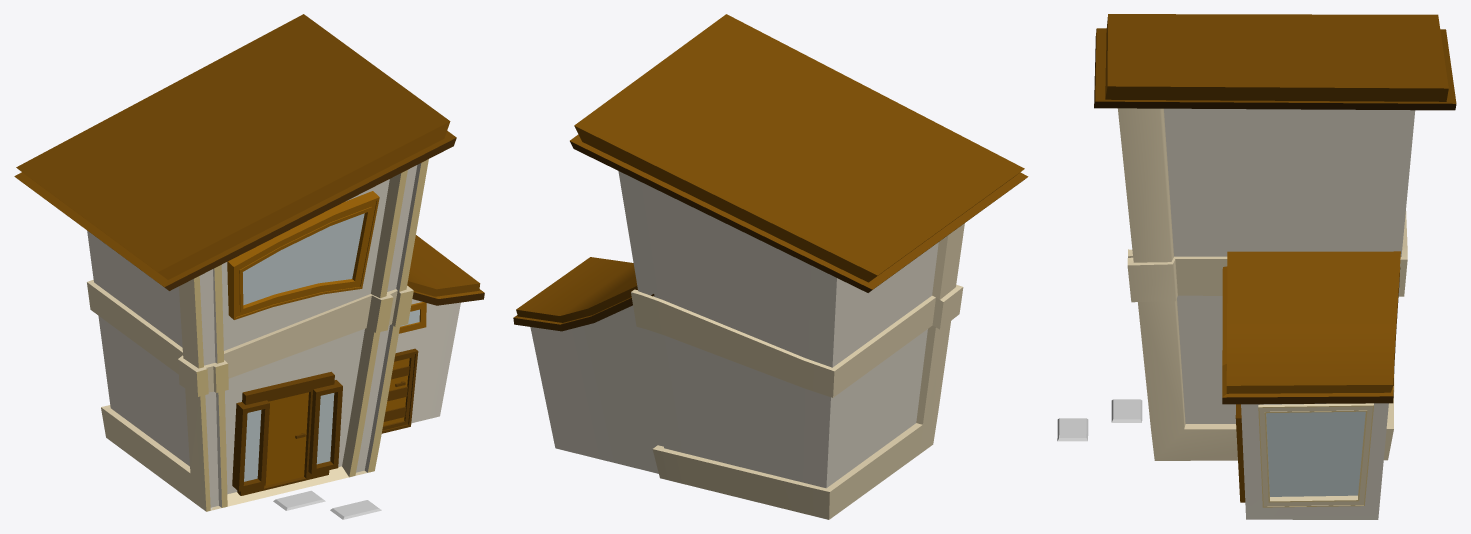
File: Casa_1.fbx
3 renders of one model, left to right at view 1: azimuth 30°, elevation 25°; view 2: azimuth 150°, elevation 25°; view 3: azimuth 270°, elevation 25°, orthographic. The views are drawn at different scales.
Parts seen in each view (by area): view 1: Casa_01_Techo_01, Casa_01_Paredes_01, Casa_01_Ventana_01, Casa_01_Puerta_04, Casa_01_Paredes_02, Casa_01_Techo_02, Casa_01_Puerta_03, Casa_01_Piedra_01, Casa_01_Piedra_02, Casa_01_Ventana_02; view 2: Casa_01_Paredes_01, Casa_01_Techo_01, Casa_01_Paredes_02, Casa_01_Techo_02; view 3: Casa_01_Paredes_01, Casa_01_Techo_01, Casa_01_Techo_02, Casa_01_Paredes_02, Casa_01_Piedra_01, Casa_01_Piedra_02, Casa_01_Puerta_03.
Boxes of the visible parts, x1,y1,x2,y2 form: Casa_01_Techo_01: (14, 14, 456, 290); Casa_01_Paredes_01: (87, 159, 428, 511); Casa_01_Ventana_01: (227, 191, 379, 319); Casa_01_Puerta_04: (232, 371, 342, 495); Casa_01_Paredes_02: (395, 299, 460, 423); Casa_01_Techo_02: (407, 235, 484, 305); Casa_01_Puerta_03: (381, 348, 418, 433); Casa_01_Piedra_01: (273, 490, 325, 510); Casa_01_Piedra_02: (330, 500, 381, 519); Casa_01_Ventana_02: (399, 302, 426, 333); Casa_01_Paredes_01: (618, 171, 964, 519); Casa_01_Techo_01: (570, 14, 1028, 292); Casa_01_Paredes_02: (530, 305, 663, 473); Casa_01_Techo_02: (513, 257, 654, 331); Casa_01_Paredes_01: (1117, 108, 1415, 460); Casa_01_Techo_01: (1094, 14, 1456, 110); Casa_01_Techo_02: (1222, 251, 1400, 404); Casa_01_Paredes_02: (1241, 403, 1388, 519); Casa_01_Piedra_01: (1111, 399, 1142, 422); Casa_01_Piedra_02: (1057, 418, 1088, 441); Casa_01_Puerta_03: (1235, 404, 1245, 502).
Bounding box in the file's own units: 23.14 × 20.64 × 18.38.
